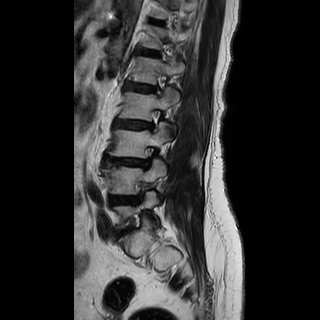LFS1: (140, 102, 167, 136)
LFS3: (131, 139, 161, 173)
